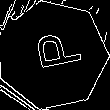P_W: (23, 32, 81, 78)
